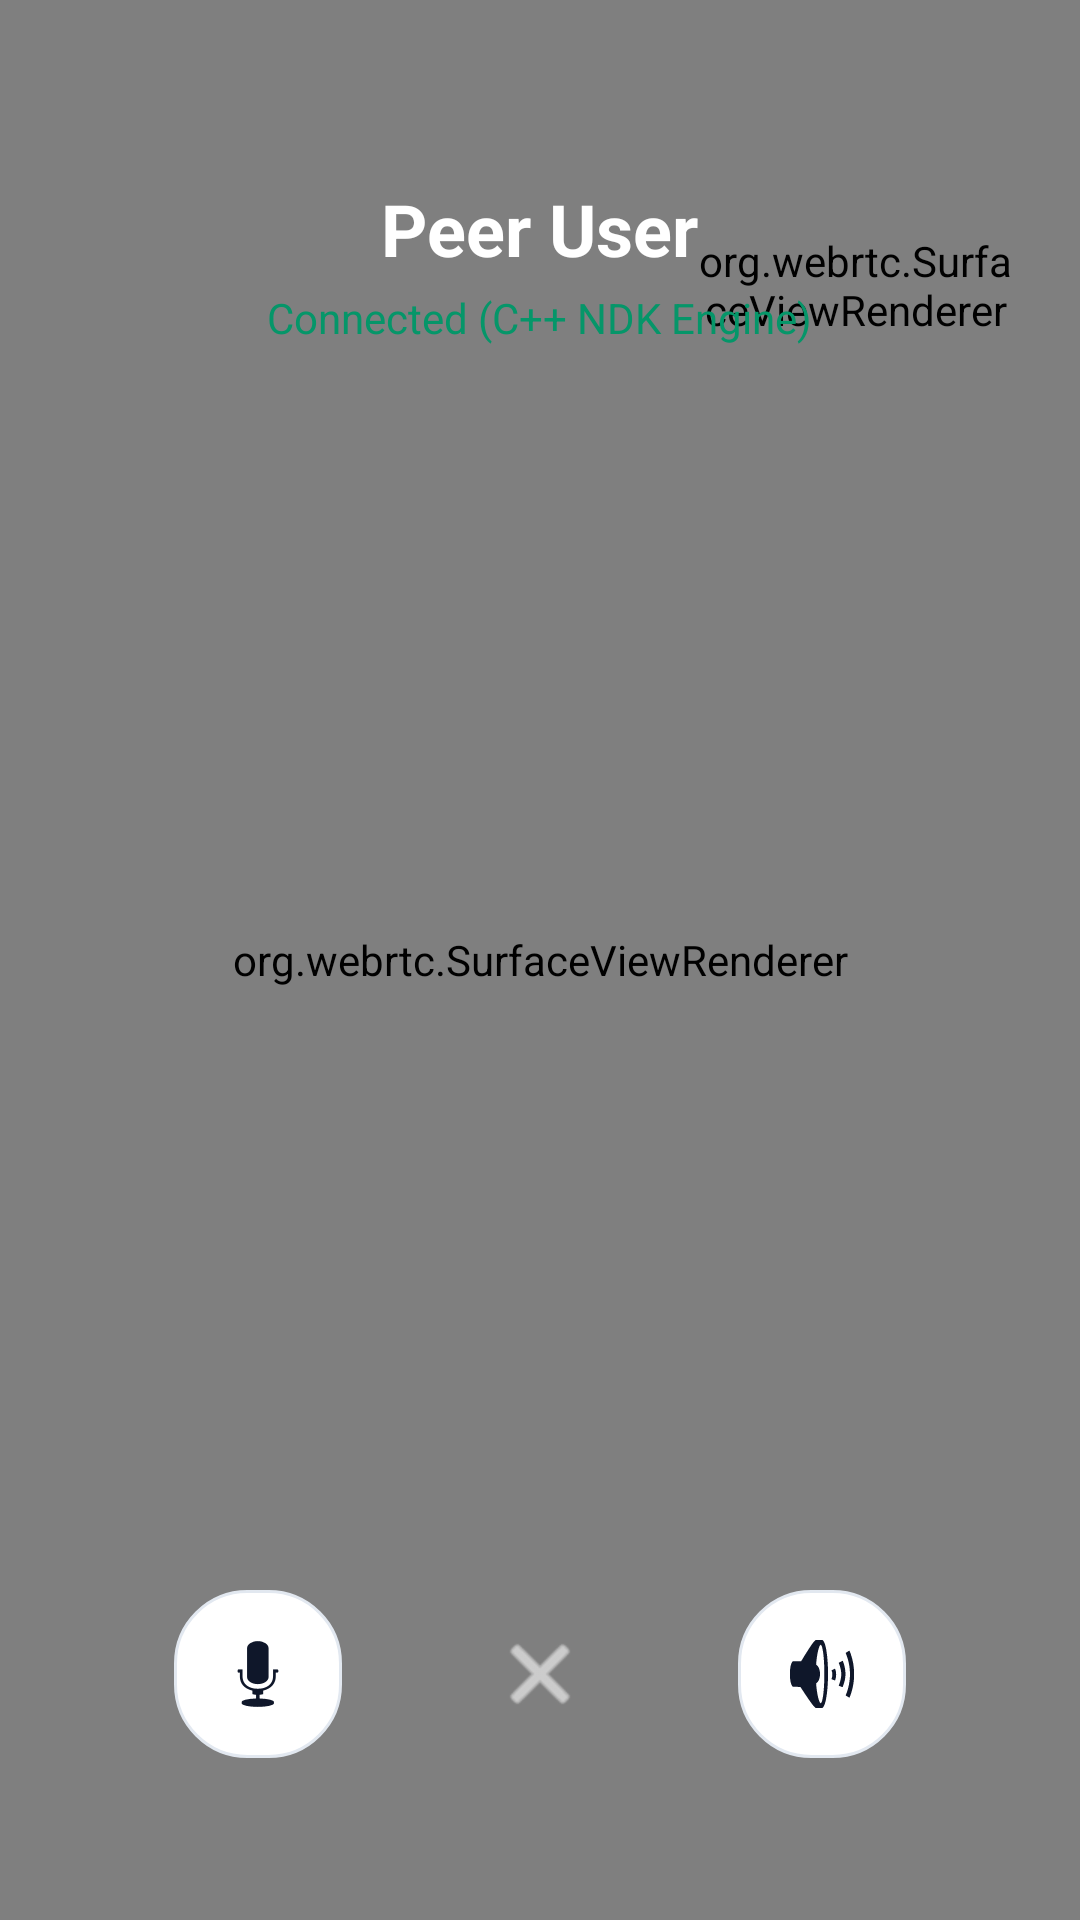

Icons on this 1080×1920 Android screen, each with its box as (x1, y1, x2, y2):
close clear cancel: (510, 1644, 570, 1704)
speak now: (174, 1590, 342, 1758)
